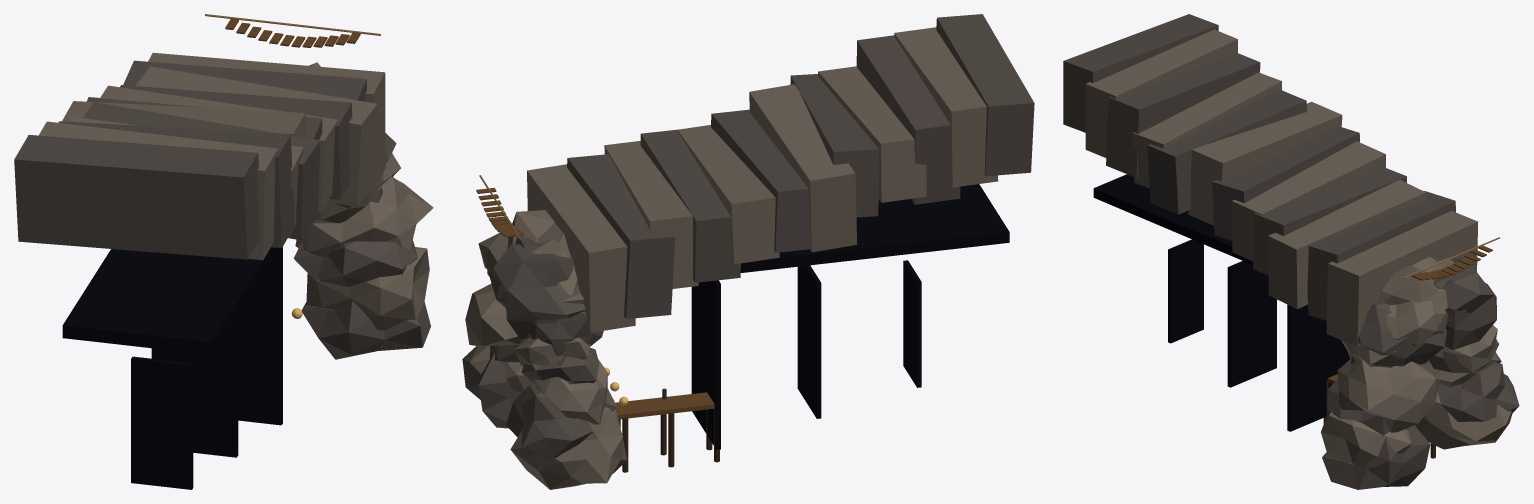
File: coast_smugglers_throat.glb
3 views of the same model, side by side, from view 1: azimuth 30°, elevation 25°; view 2: azimuth 150°, elevation 25°; view 3: azimuth 270°, elevation 25° (orthographic). The views are drawn at different scales.
Visible parts, largest first — view 1: geometry_0; view 2: geometry_0; view 3: geometry_0.
Part boxes in pixels (x1=…): geometry_0: x1=14, y1=14, x2=433, y2=489; geometry_0: x1=462, y1=14, x2=1034, y2=489; geometry_0: x1=1063, y1=14, x2=1519, y2=489.
Bounding box in the file's own units: 44.61 × 33.27 × 43.68.
